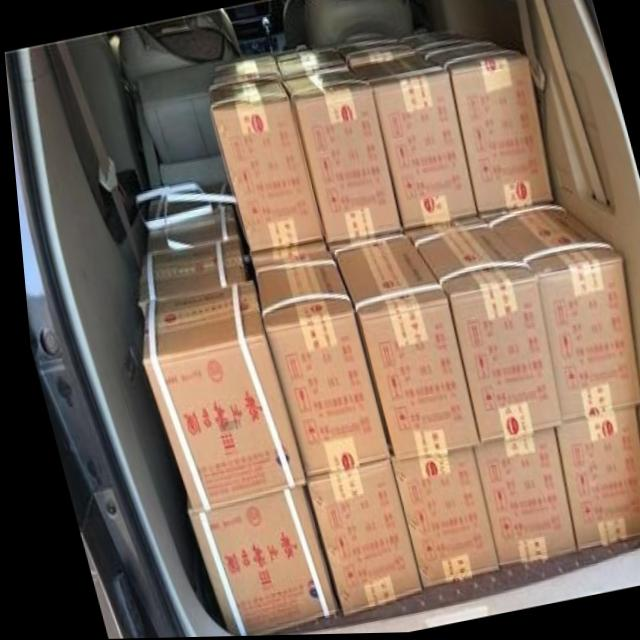box: (135, 279, 298, 512), (399, 215, 557, 444), (320, 229, 472, 461), (477, 204, 634, 422), (244, 242, 384, 479), (176, 485, 329, 637), (347, 52, 471, 229), (421, 42, 547, 215), (277, 63, 396, 242), (207, 75, 318, 249), (297, 462, 413, 619), (382, 448, 490, 588), (463, 428, 567, 566), (546, 407, 640, 551), (132, 240, 241, 319), (142, 191, 234, 258), (272, 43, 347, 78), (335, 34, 417, 65), (209, 53, 278, 88), (397, 31, 474, 50)
